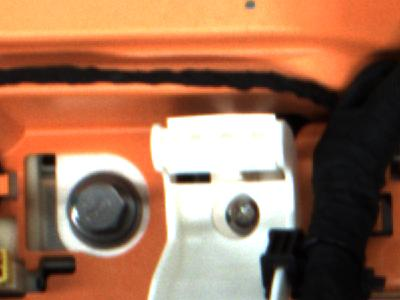nut_b: (66, 170, 146, 250)
